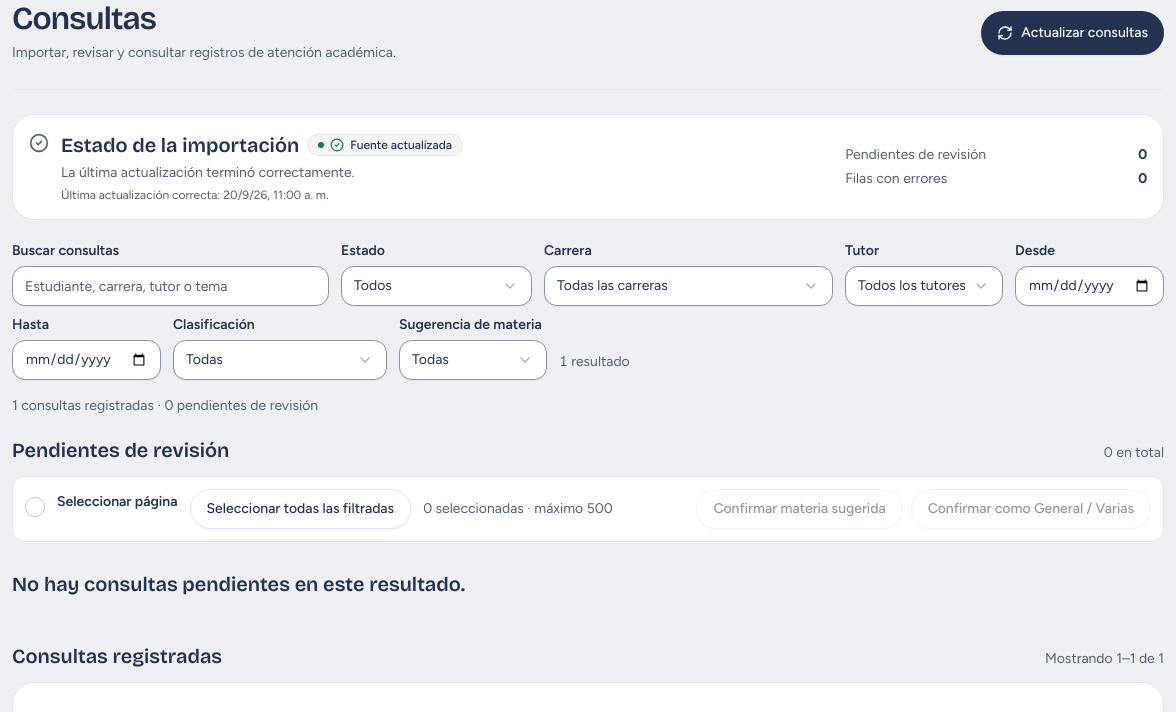
ConsultationsScreen › keeps strict filter state in the URL and preserves it during import refresh
Select "Ingeniería en Sistemas de Información" in the dropdown labelled "Carrera". click: (688, 286)
box: [544,266,833,306]
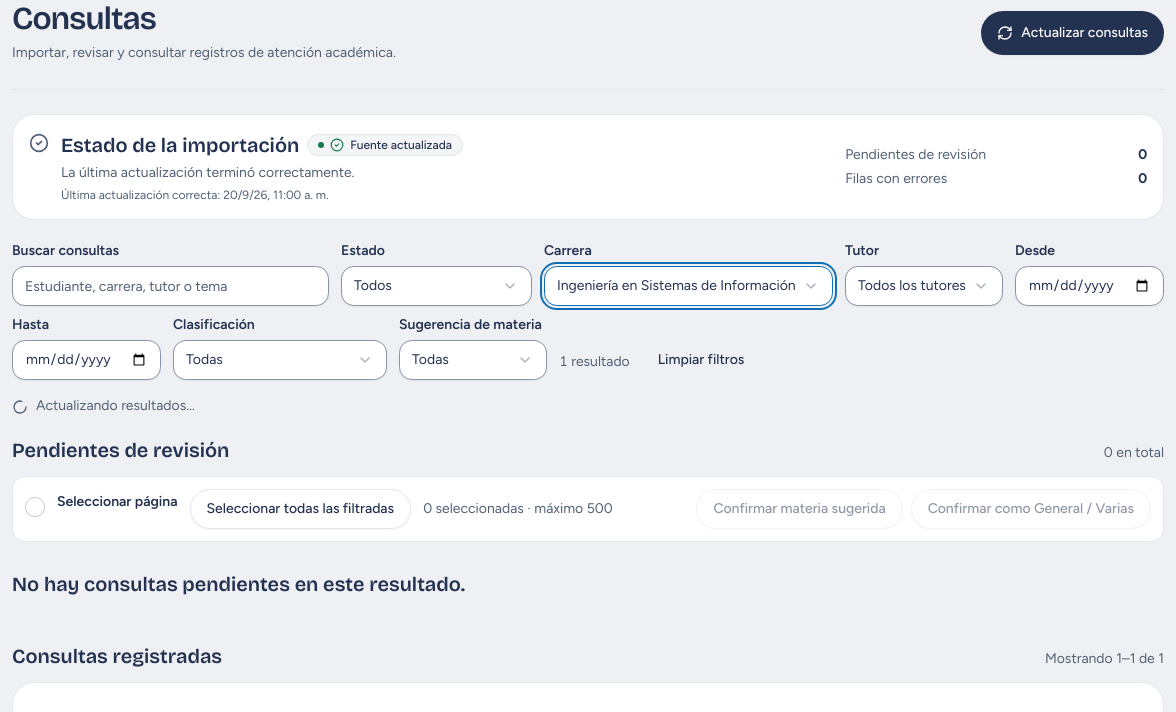
Type "Lucía" into the search field labelled "Buscar consultas". click: (170, 286)
box: [12,266,329,306]
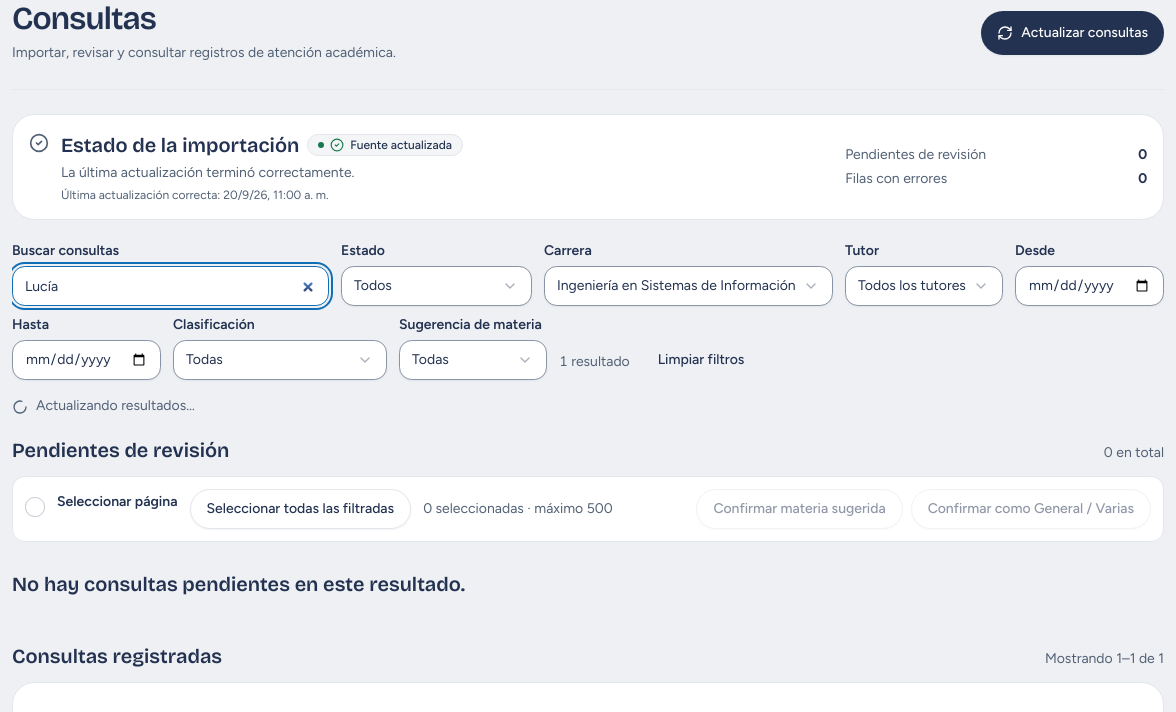
Click the button "Actualizar consultas". click: click(1073, 33)
box: [981,11,1164,55]
(page scrolled)
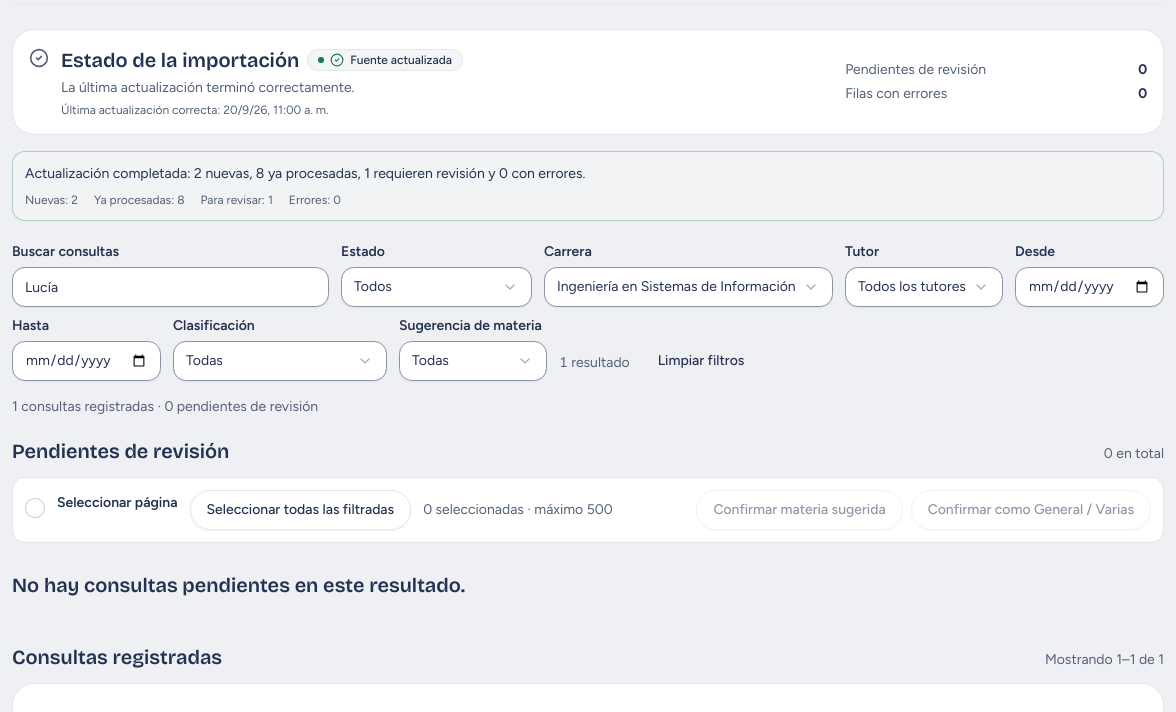
Expected: the text "2 nuevas, 8 ya procesadas, 1 requieren revisión" is shown, [25,165,585,182]
